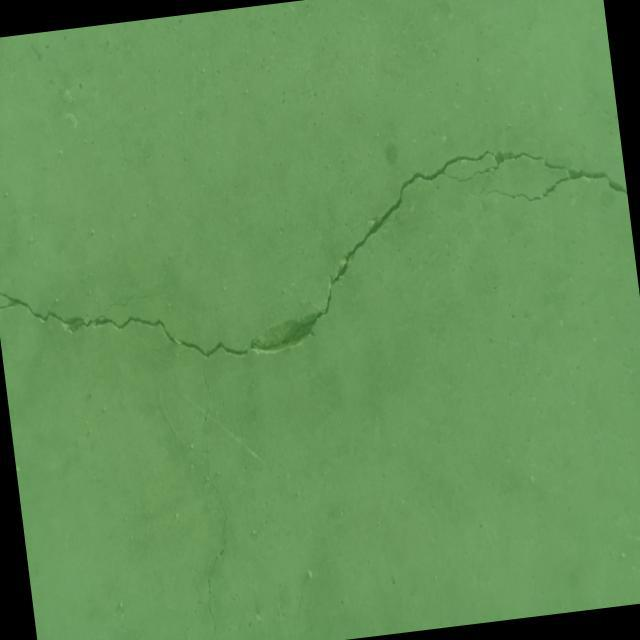crack: (0, 133, 640, 424), (185, 443, 244, 640), (198, 406, 212, 440)
